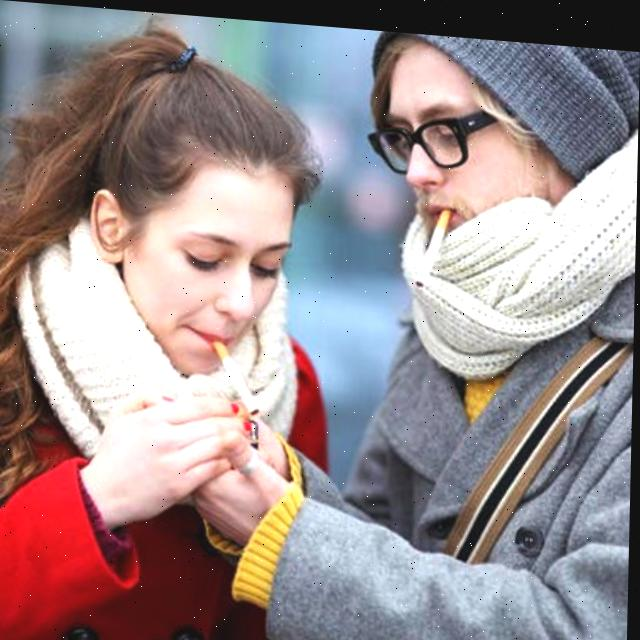cigarette: (211, 336, 263, 413), (415, 200, 453, 284)
